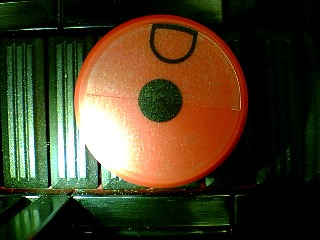BOHOMIPO1: (73, 14, 249, 189)
